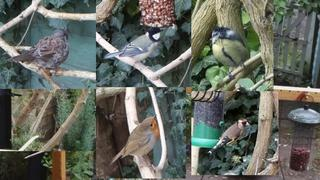blue tit: (209, 27, 249, 80)
dunnock: (6, 27, 69, 76)
goldfinch: (207, 118, 252, 157)
great tit: (103, 27, 165, 72)
robin: (108, 114, 159, 169)
